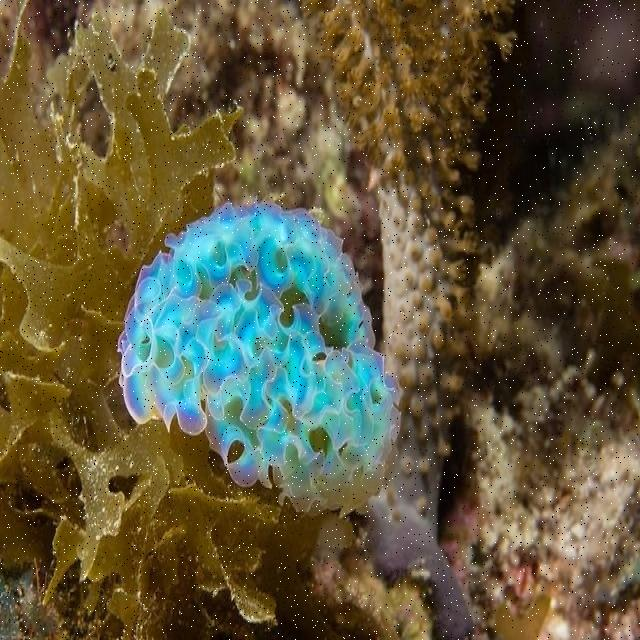reefs: (0, 0, 435, 637), (300, 1, 518, 638), (117, 201, 404, 518)
